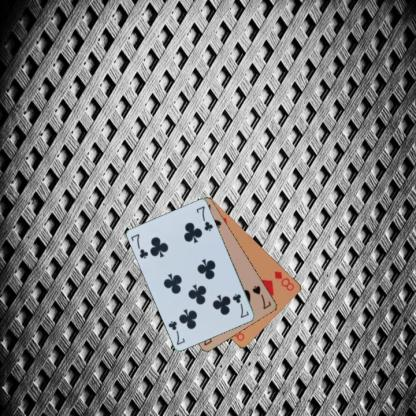7c: (128, 231, 150, 260), (230, 291, 250, 320)
7s: (250, 283, 272, 310)
8d: (272, 268, 295, 292)
